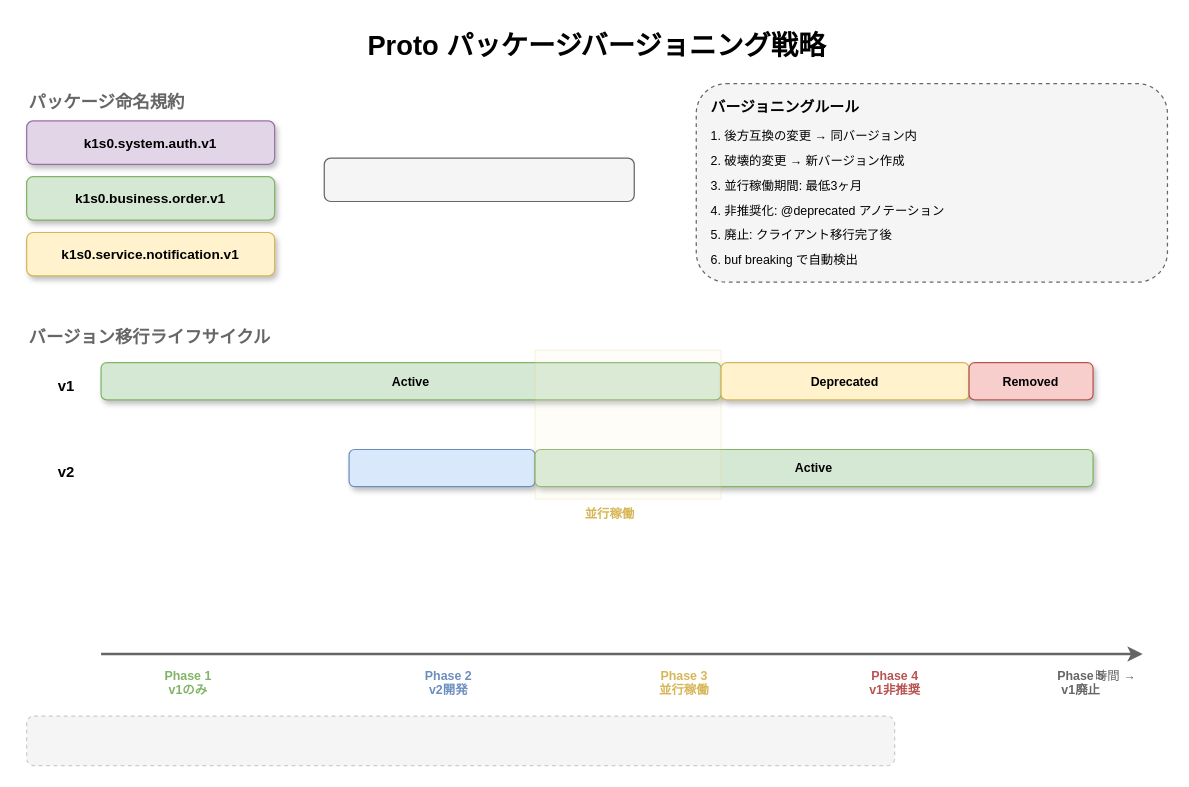
Some shapes in this 1189 by 787 pixel diagram are drawn without their labels. The centre of each missing label's shape, as x and y in pixels:
Development: the point at 442,469
k1s0.{tier}.{service}.{version}: the point at 478,179
凡例: ■ Active ■ Development ■ Deprecated ■ Removed ■ System ■ Business ■ Service: the point at 460,740
